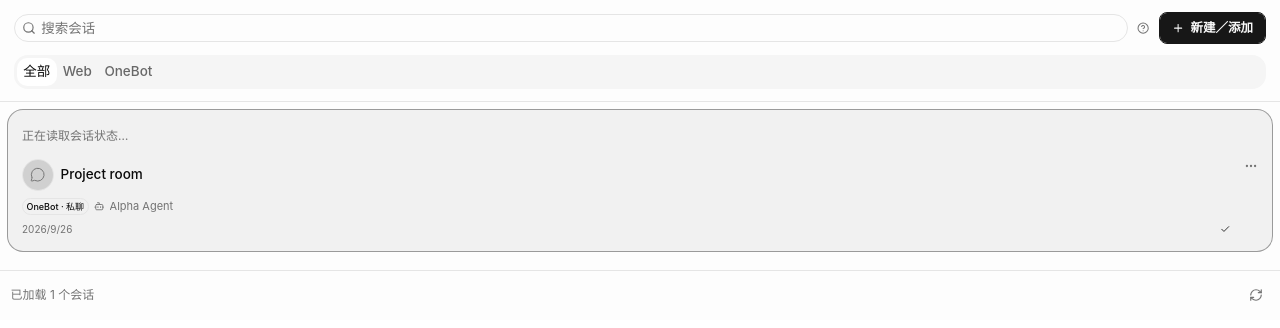
Test: matches agent names in search while empty queries keep every loaded entry
Check: the button "Project room" is shown, box [15,152,1237,244]
Type "alpha agent" into the field at (581, 28), box [36,9,1127,47]
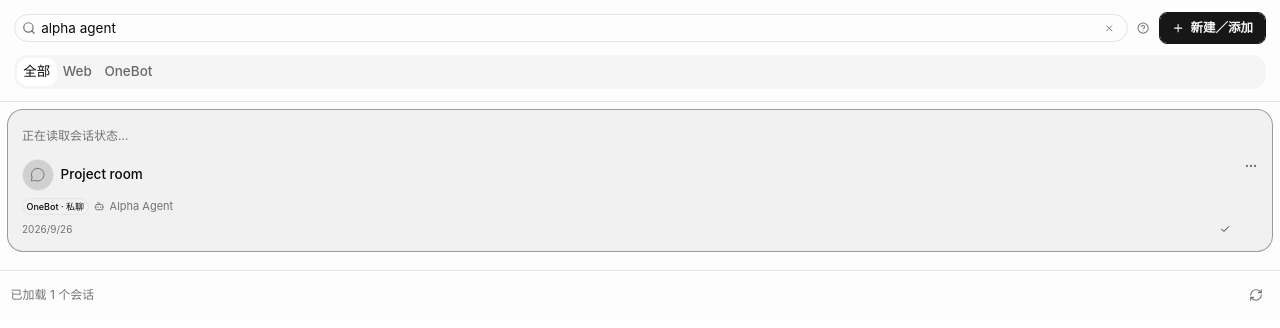
Check: the button "Project room" is shown, box [15,152,1237,244]
Replace the text in the field with "missing" at (567, 28), box [36,9,1099,47]
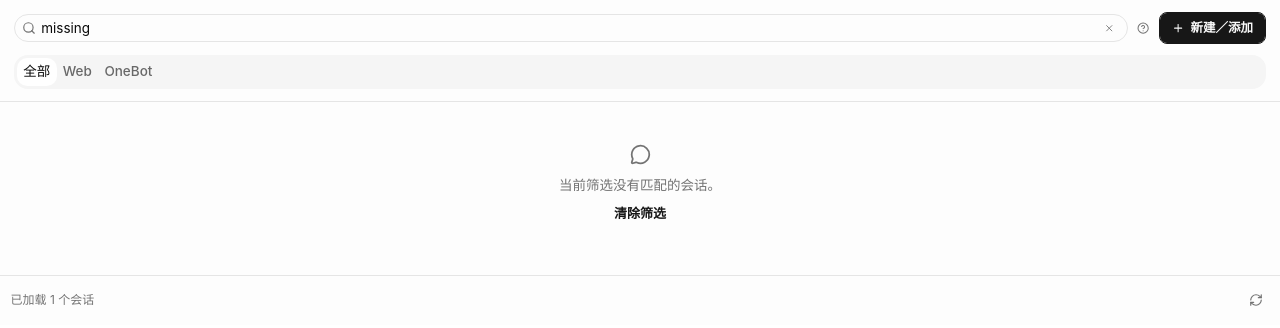
Check: the button "Project room" is gone
Clear the field at (567, 28), box [36,9,1099,47]
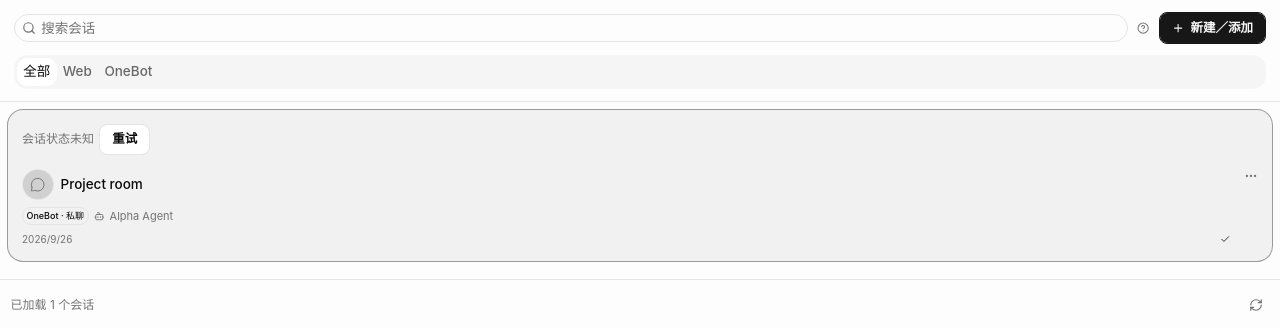
Check: the button "Project room" is shown, box [15,162,1237,254]
